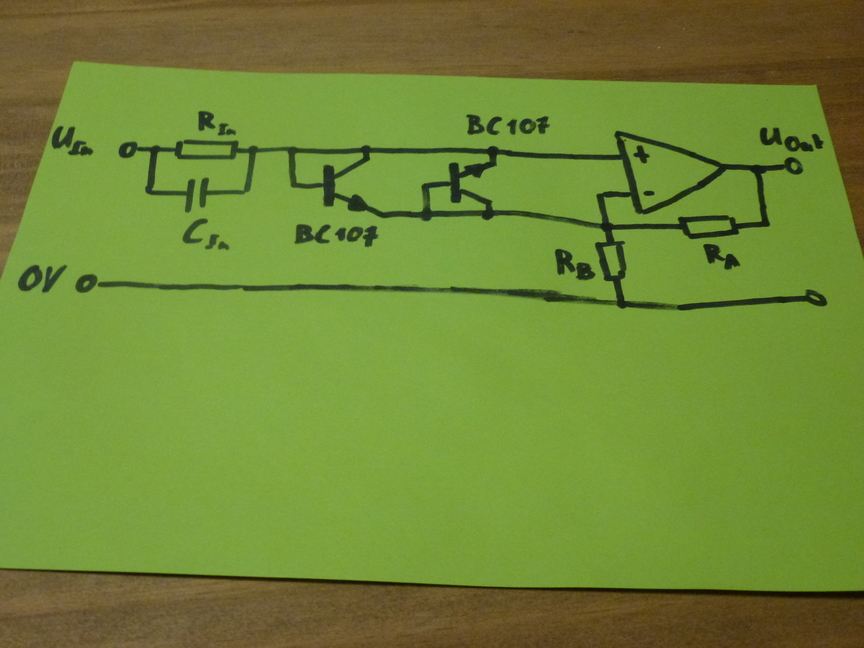capacitor.unpolarized: (181, 176, 211, 214)
junction: (749, 163, 768, 176), (419, 207, 433, 223), (614, 297, 628, 311), (600, 220, 615, 233), (486, 144, 500, 157), (358, 144, 373, 155), (143, 186, 156, 198), (246, 144, 259, 156), (481, 209, 494, 221), (285, 144, 298, 156), (148, 144, 162, 155), (240, 186, 252, 198), (595, 190, 607, 201), (287, 181, 300, 191), (758, 219, 771, 229), (420, 182, 431, 191)
operational_amplifier: (614, 129, 728, 215)
resistor: (677, 215, 740, 240), (173, 138, 240, 161), (594, 239, 628, 284)
terminal: (74, 273, 100, 294), (803, 288, 828, 308), (782, 156, 805, 176), (117, 140, 139, 159)
text: (293, 221, 380, 249), (465, 112, 551, 136), (758, 125, 825, 154), (180, 217, 231, 253), (16, 263, 68, 294), (50, 125, 95, 158), (553, 247, 596, 281), (702, 242, 741, 272), (196, 109, 237, 137)
transistor: (321, 157, 385, 220), (448, 160, 498, 207)
